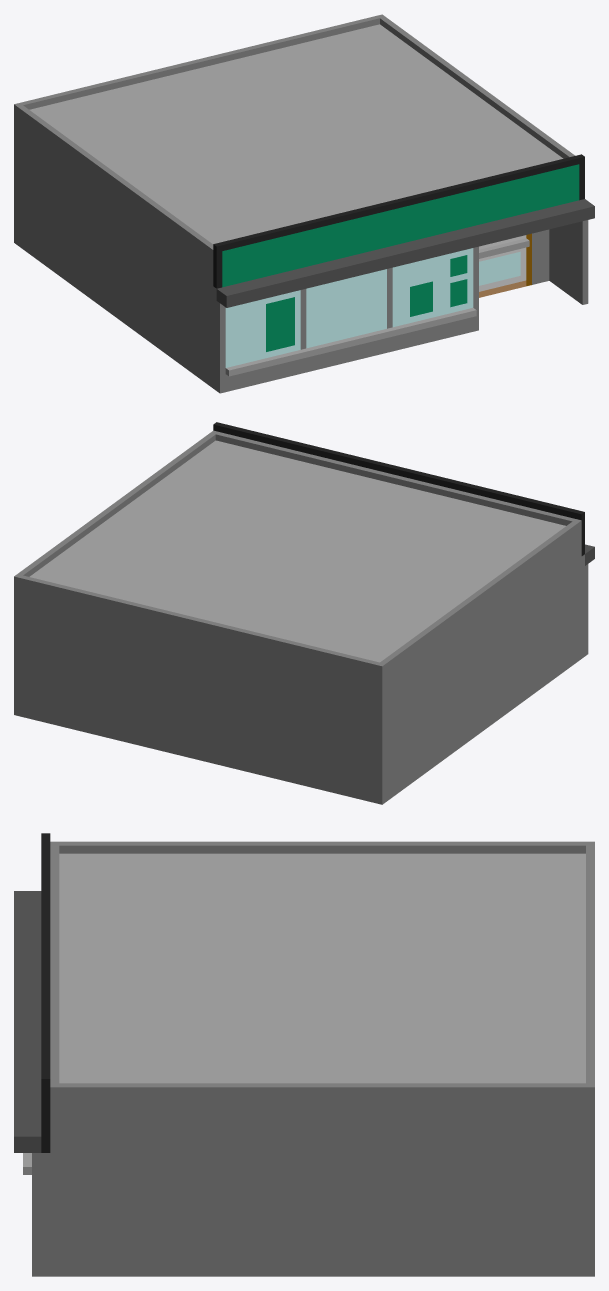
The model's file is obj_store02.obj.
3 renders of one model, top to bottom at view 1: azimuth 30°, elevation 25°; view 2: azimuth 150°, elevation 25°; view 3: azimuth 270°, elevation 25°, orthographic. The views are drawn at different scales.
Size of the model in its own units: 6.4 by 2.4 by 6.4.
1 material, 1 textured.
